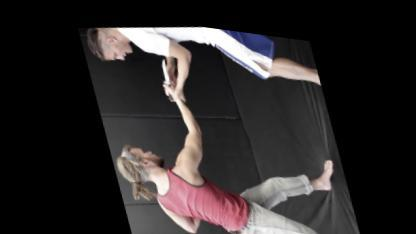knife: (153, 50, 178, 100)
